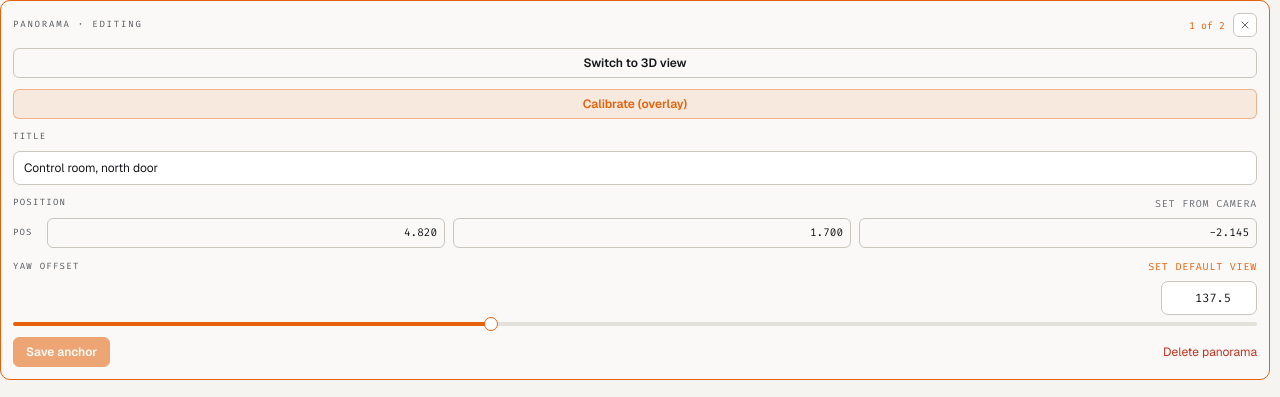
Test: AnchorCard › captures the look direction as the default view
Expected: the text "Default look" is not shown
Click the button "Set default view".
click(1203, 266)  # box [1148,259,1257,274]
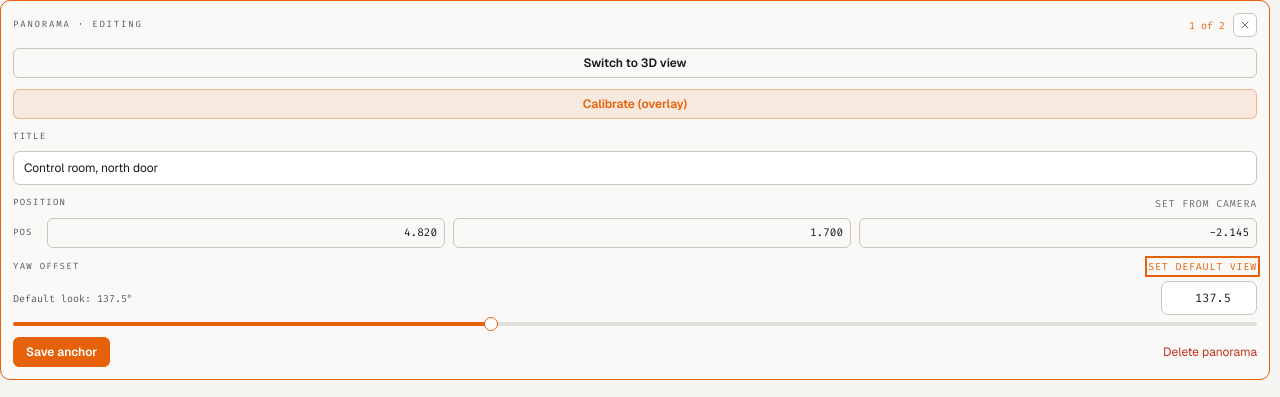
Now the text "Default look: 137.5°" is shown, box [13,290,133,306]
